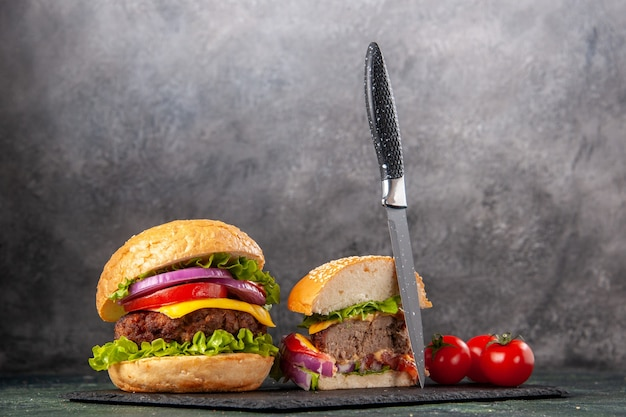knife: (361, 41, 427, 391)
